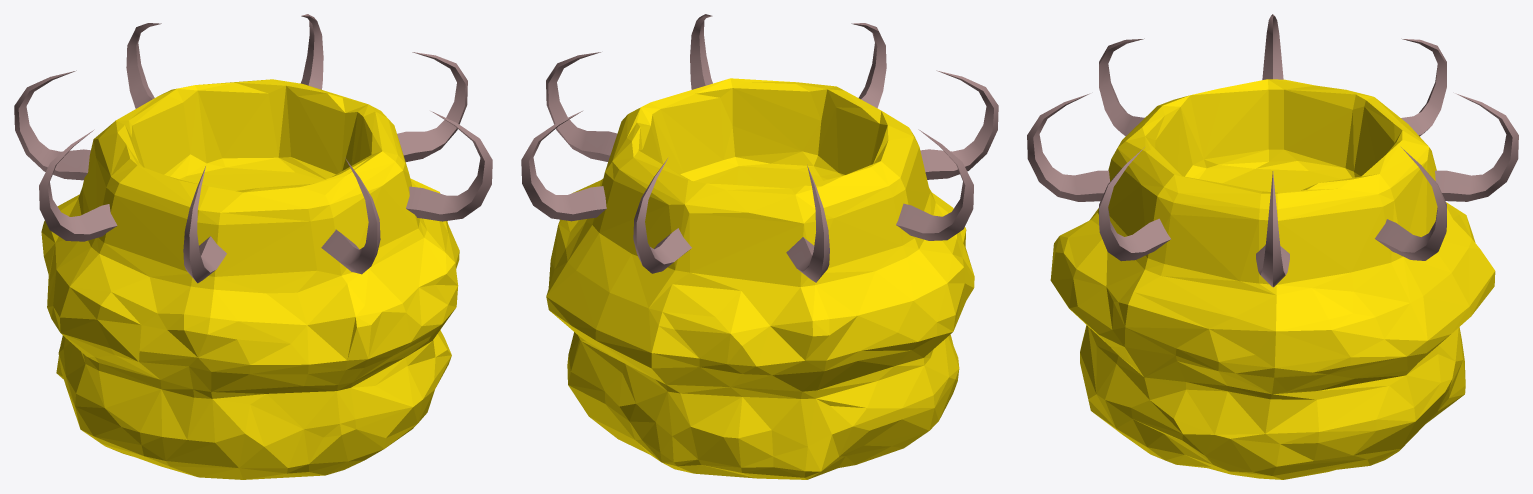
File: Cactus.fbx
The picture shows the model from 3 angles, left to right: view 1: azimuth 30°, elevation 25°; view 2: azimuth 150°, elevation 25°; view 3: azimuth 270°, elevation 25°; orthographic projection.
Parts seen in each view (by area): view 1: cactusBase, thorn1, thorn6, thorn7, thorn2, thorn, thorn5, thorn4, thorn3; view 2: cactusBase, thorn3, thorn6, thorn5, thorn2, thorn4, thorn7, thorn, thorn1; view 3: cactusBase, thorn4, thorn, thorn1, thorn3, thorn2, thorn5, thorn7, thorn6.
Boxes of the visible parts, x1,y1,x2,y2 form: cactusBase: (41,79,459,479); thorn1: (406,111,492,221); thorn6: (39,129,117,241); thorn7: (14,70,90,180); thorn2: (397,52,467,161); thorn: (321,158,380,274); thorn5: (183,166,226,283); thorn4: (126,23,161,108); thorn3: (300,14,323,89); cactusBase: (546,78,974,479); thorn3: (521,111,606,221); thorn6: (896,129,973,240); thorn5: (920,70,998,179); thorn2: (546,52,617,161); thorn4: (633,157,691,273); thorn7: (786,165,829,282); thorn: (851,23,886,108); thorn1: (690,14,712,89); cactusBase: (1050,79,1495,479); thorn4: (1435,93,1518,201); thorn: (1027,93,1109,201); thorn1: (1099,147,1170,261); thorn3: (1375,147,1446,260); thorn2: (1256,171,1289,287); thorn5: (1099,38,1144,136); thorn7: (1401,38,1446,136); thorn6: (1262,14,1283,79).
Size of the model in its own units: 0.5241 by 0.3806 by 0.5241.
